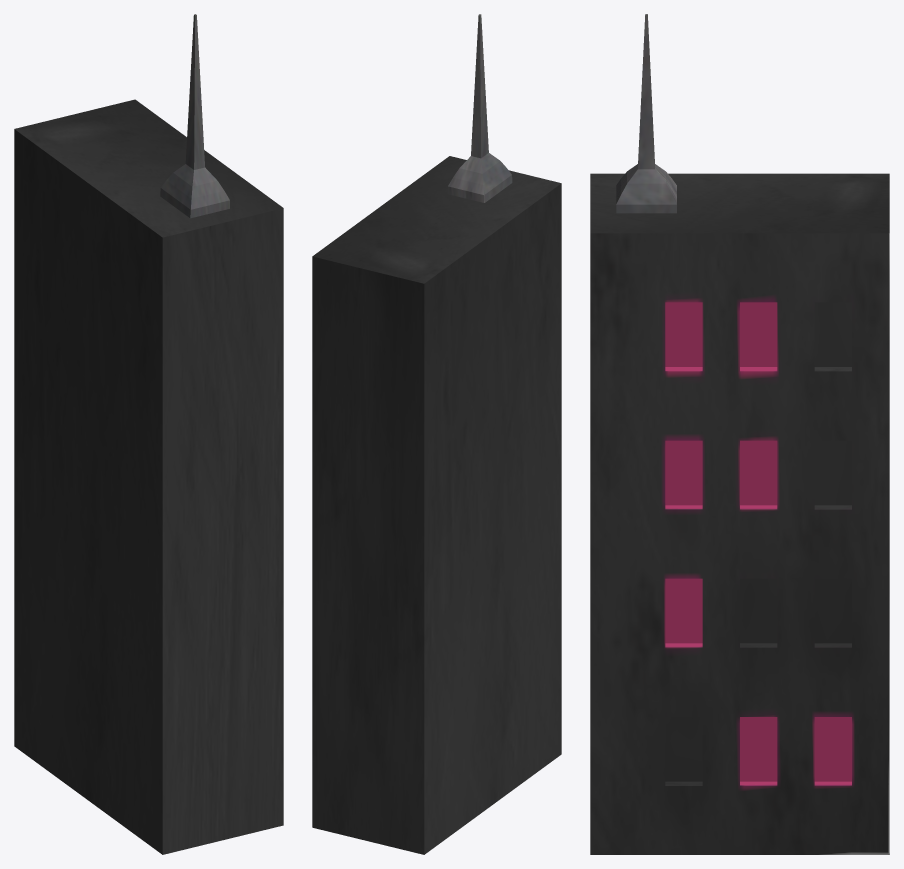
File: building1.obj
3 renders of one model, left to right at view 1: azimuth 30°, elevation 25°; view 2: azimuth 150°, elevation 25°; view 3: azimuth 270°, elevation 25°, orthographic. The views are drawn at different scales.
Parts seen in each view (by area): view 1: Cube_Cube.002; view 2: Cube_Cube.002; view 3: Cube_Cube.002.
Boxes of the visible parts, <box> form: Cube_Cube.002: <box>14,14,283,854</box>; Cube_Cube.002: <box>312,14,561,854</box>; Cube_Cube.002: <box>590,14,889,854</box>.
Bounding box in the file's own units: 2.31 × 14.66 × 4.9.
1 material, 1 textured.
